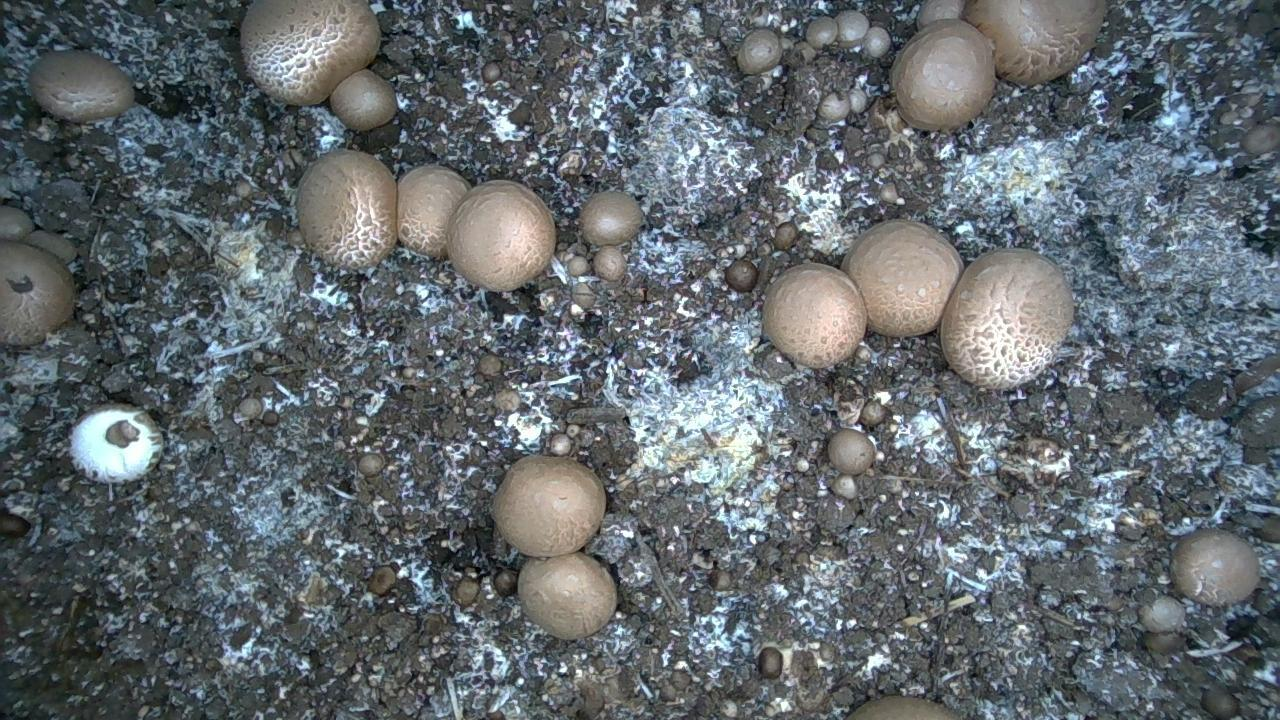BB: (940, 249, 1073, 389), (241, 0, 380, 105), (841, 219, 963, 336), (963, 0, 1106, 84), (447, 180, 555, 291), (297, 150, 396, 269), (890, 19, 994, 130), (492, 456, 606, 557), (762, 263, 867, 367), (518, 552, 617, 638), (29, 50, 133, 122), (70, 404, 162, 482), (1171, 529, 1259, 605), (397, 165, 469, 257), (330, 70, 397, 130), (579, 191, 643, 245), (848, 696, 961, 719), (828, 429, 875, 474), (737, 29, 782, 74), (22, 230, 76, 264), (1138, 595, 1185, 632), (916, 0, 964, 28), (1201, 685, 1238, 719), (1241, 124, 1279, 155), (836, 10, 868, 46), (594, 246, 626, 280), (805, 16, 837, 49), (725, 259, 758, 291), (817, 92, 849, 122), (758, 647, 782, 678), (492, 568, 517, 596), (860, 400, 885, 427), (774, 222, 798, 250), (476, 353, 503, 377), (494, 389, 520, 411), (358, 453, 384, 475), (481, 62, 501, 83)
